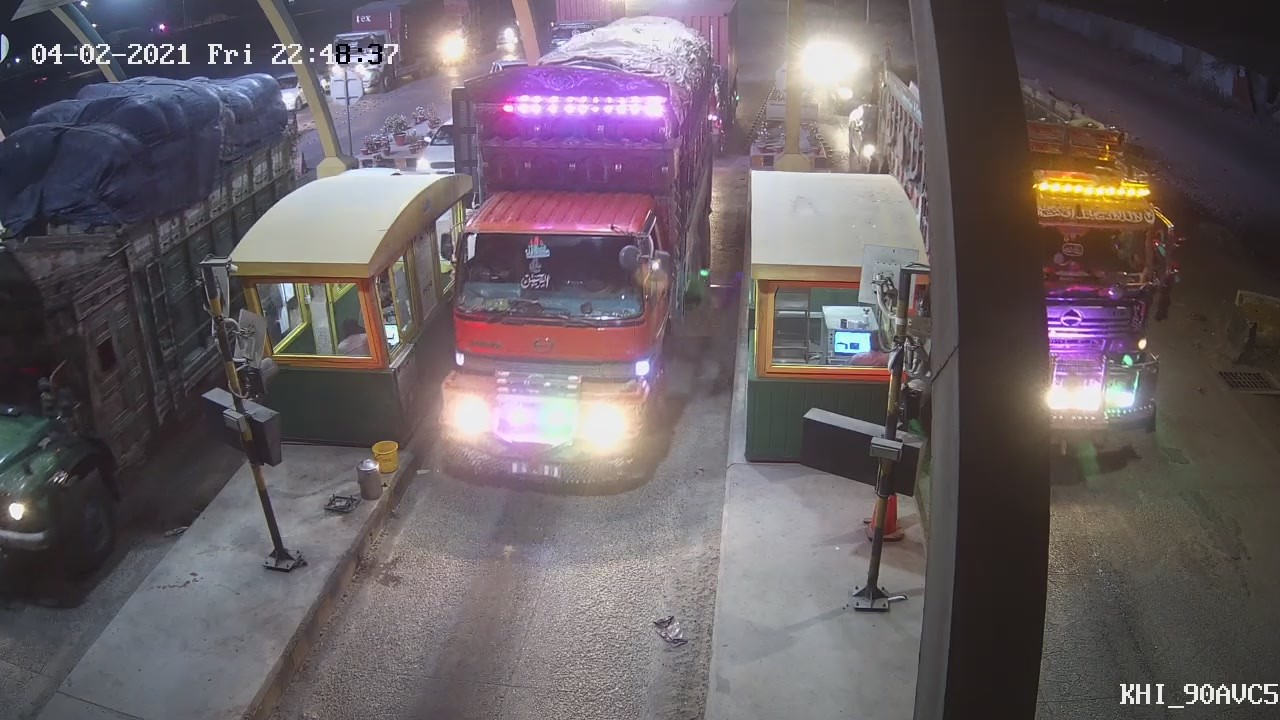F5: (431, 66, 701, 496)
